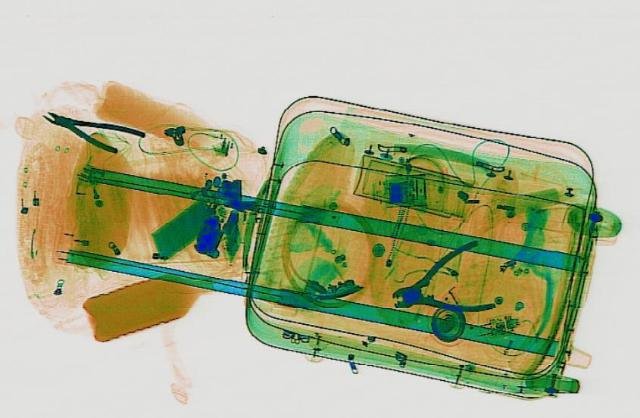Pliers: (366, 237, 520, 328), (32, 100, 146, 155)
